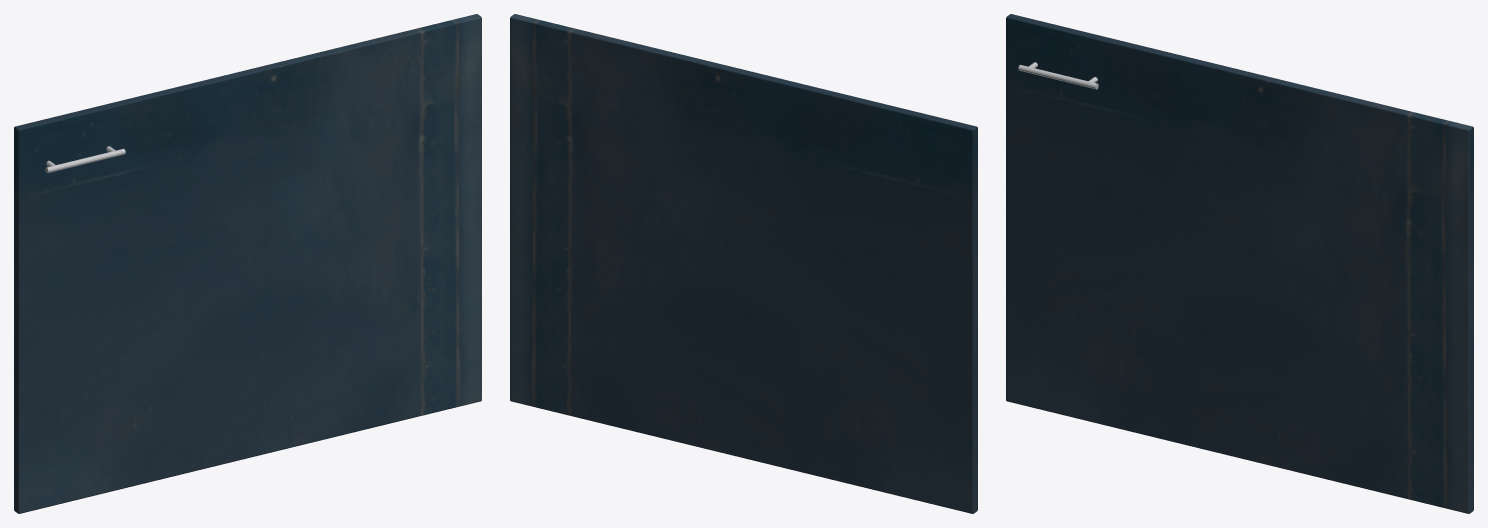
The model's file is counter_door_r.glb.
3 views of the same model, side by side, from view 1: azimuth 30°, elevation 25°; view 2: azimuth 150°, elevation 25°; view 3: azimuth 330°, elevation 25° (orthographic).
Parts seen in each view (by area): view 1: CounterDoor_R; view 2: CounterDoor_R; view 3: CounterDoor_R.
Boxes of the visible parts, left/top/right/bottom form: CounterDoor_R: left=14, top=14, right=481, bottom=513; CounterDoor_R: left=510, top=14, right=977, bottom=513; CounterDoor_R: left=1006, top=14, right=1473, bottom=513.
Bounding box in the file's own units: 1.15 × 0.912 × 0.0582.
2 materials, 1 textured.
